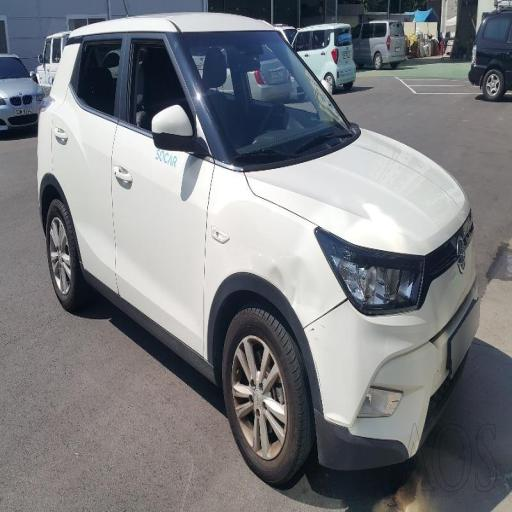dent: (249, 220, 359, 343)
